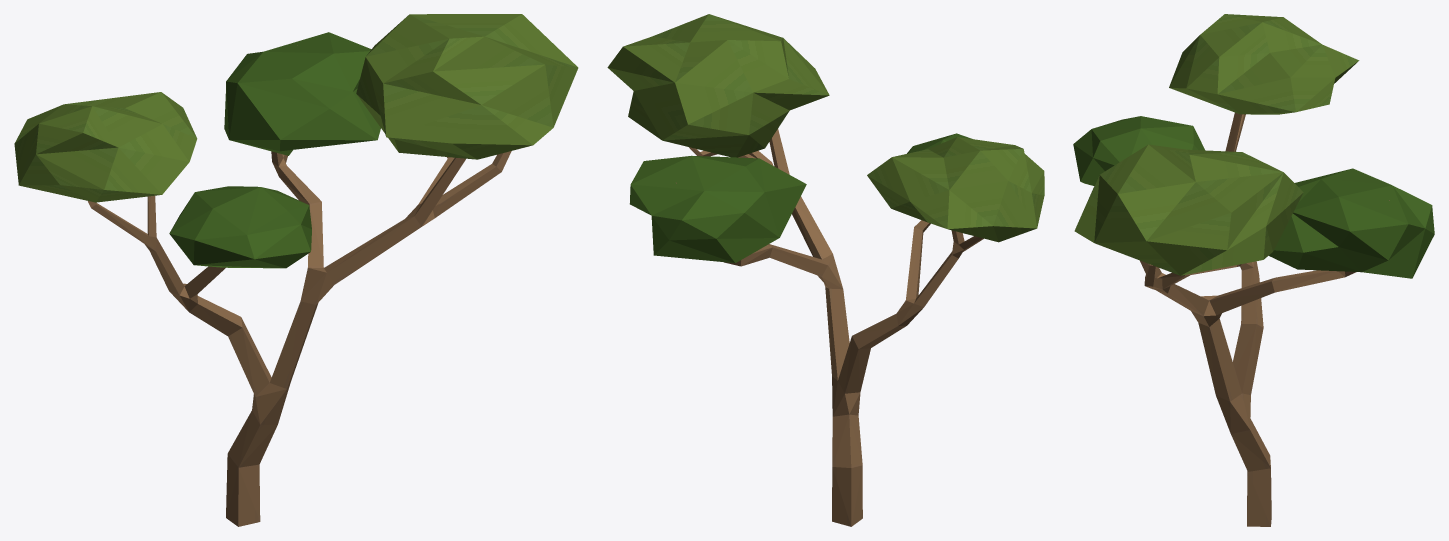
Rendered from tree13288.gltf.
3 views of the same model, side by side, from view 1: azimuth 30°, elevation 25°; view 2: azimuth 150°, elevation 25°; view 3: azimuth 270°, elevation 25° (orthographic). The views are drawn at different scales.
Parts seen in each view (by area): view 1: node_tree; view 2: node_tree; view 3: node_tree.
Part boxes in pixels (left/top/right/bottom): node_tree: left=14, top=14, right=578, bottom=526; node_tree: left=607, top=14, right=1044, bottom=526; node_tree: left=1073, top=14, right=1434, bottom=526.
Bounding box in the file's own units: 9.77 × 8.68 × 6.37.
Materials: 1 (1 with a texture image).
